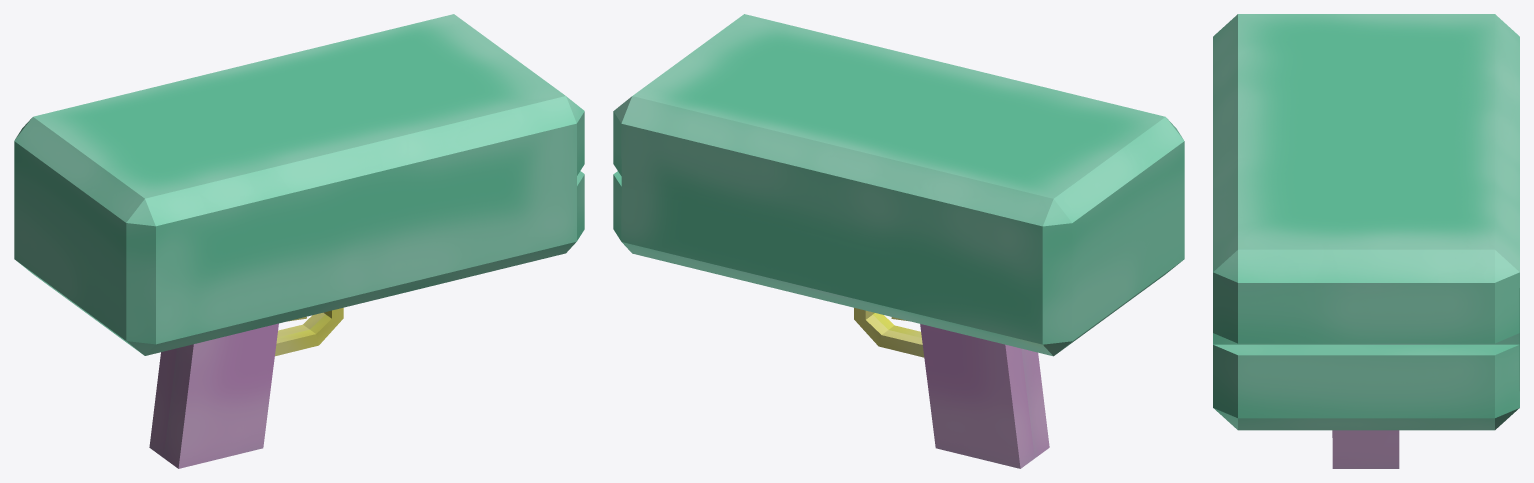
File: GunModel.fbx
3 views of the same model, side by side, from view 1: azimuth 30°, elevation 25°; view 2: azimuth 150°, elevation 25°; view 3: azimuth 270°, elevation 25° (orthographic). The views are drawn at different scales.
Visible parts, largest first — view 1: Gun_GEO; view 2: Gun_GEO; view 3: Gun_GEO.
Part boxes in pixels (<box>): Gun_GEO: <box>14,14,584,468</box>; Gun_GEO: <box>613,14,1184,468</box>; Gun_GEO: <box>1213,14,1519,468</box>.
Bounding box in the file's own units: 151 × 100 × 76.24.
